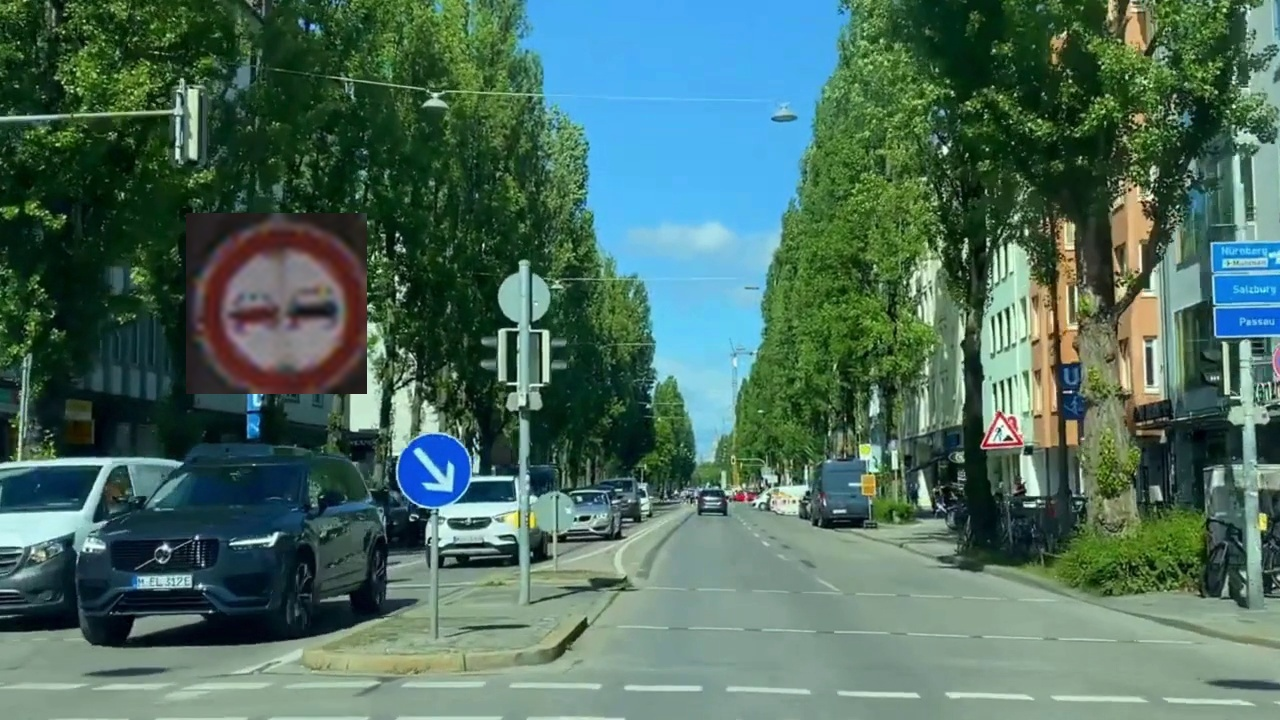No passing: (186, 213, 367, 394)
